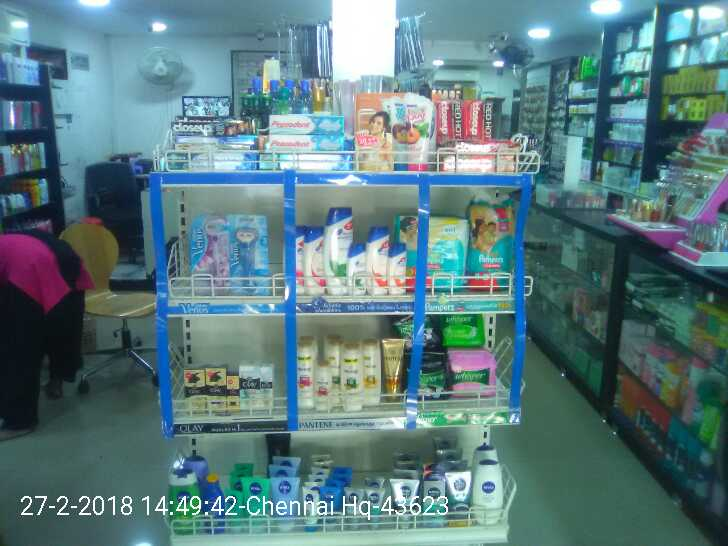venus: (193, 213, 233, 295), (233, 216, 266, 295)
